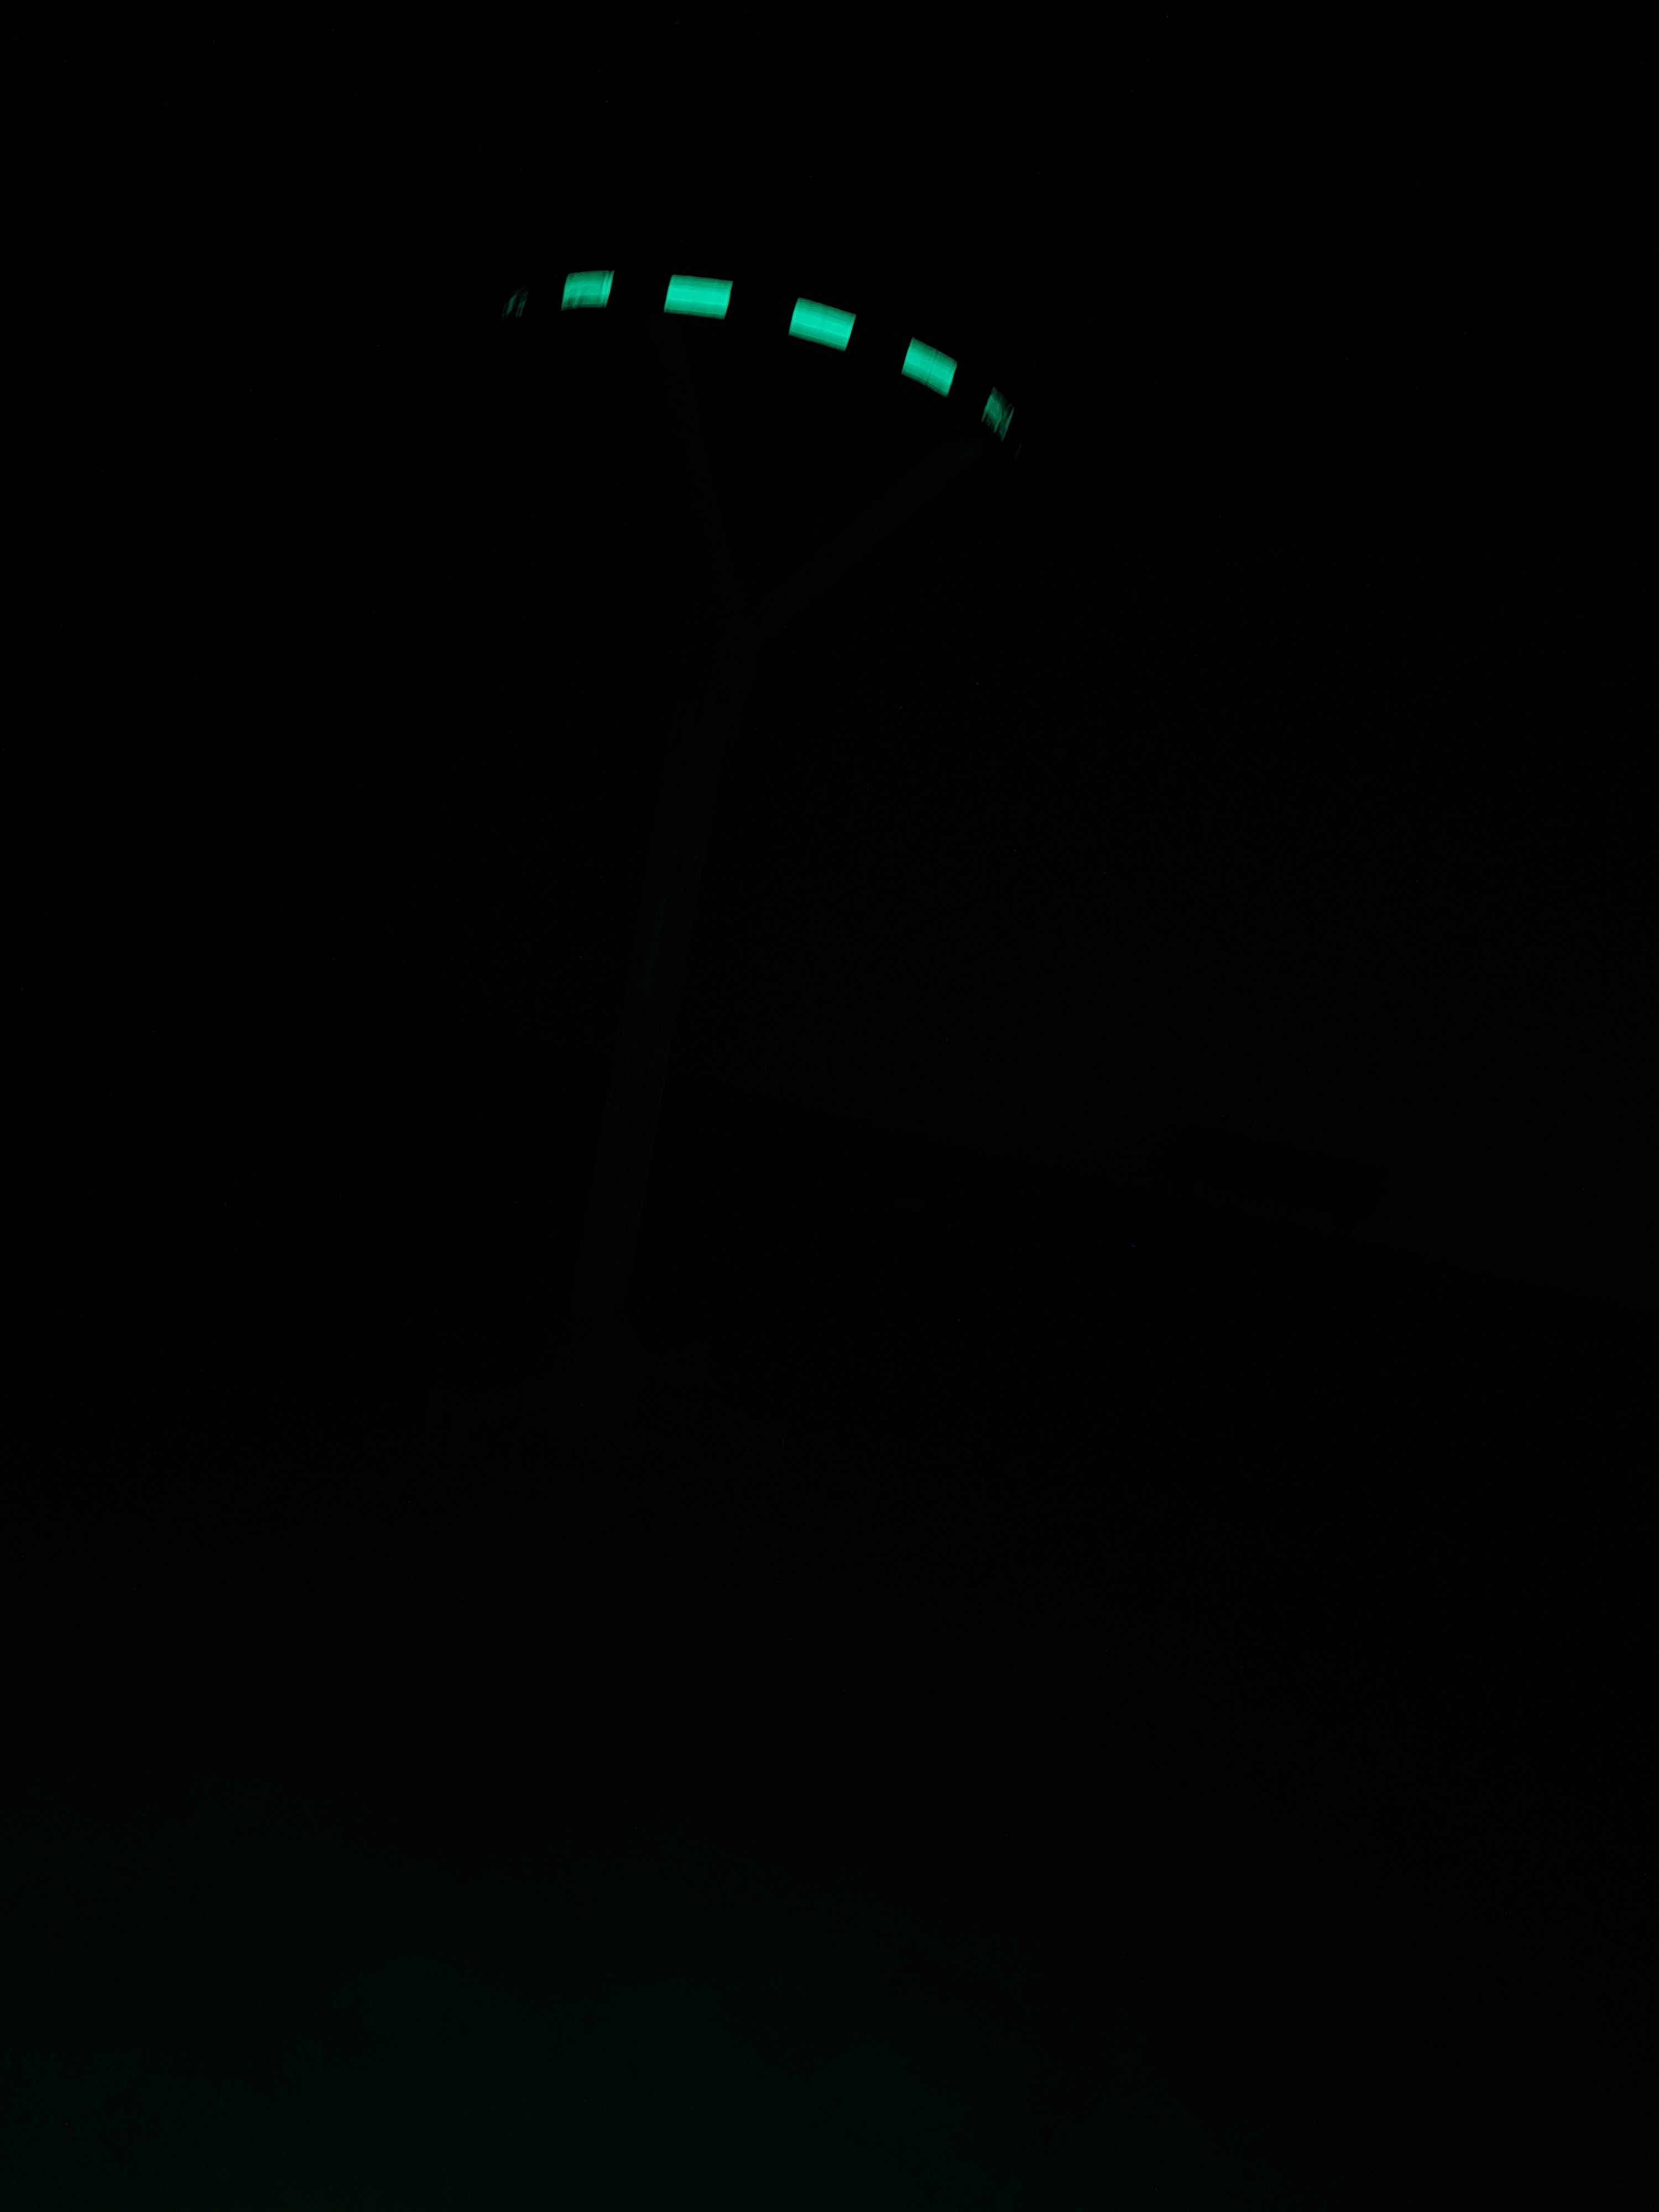hoop: (493, 268, 1019, 448)
